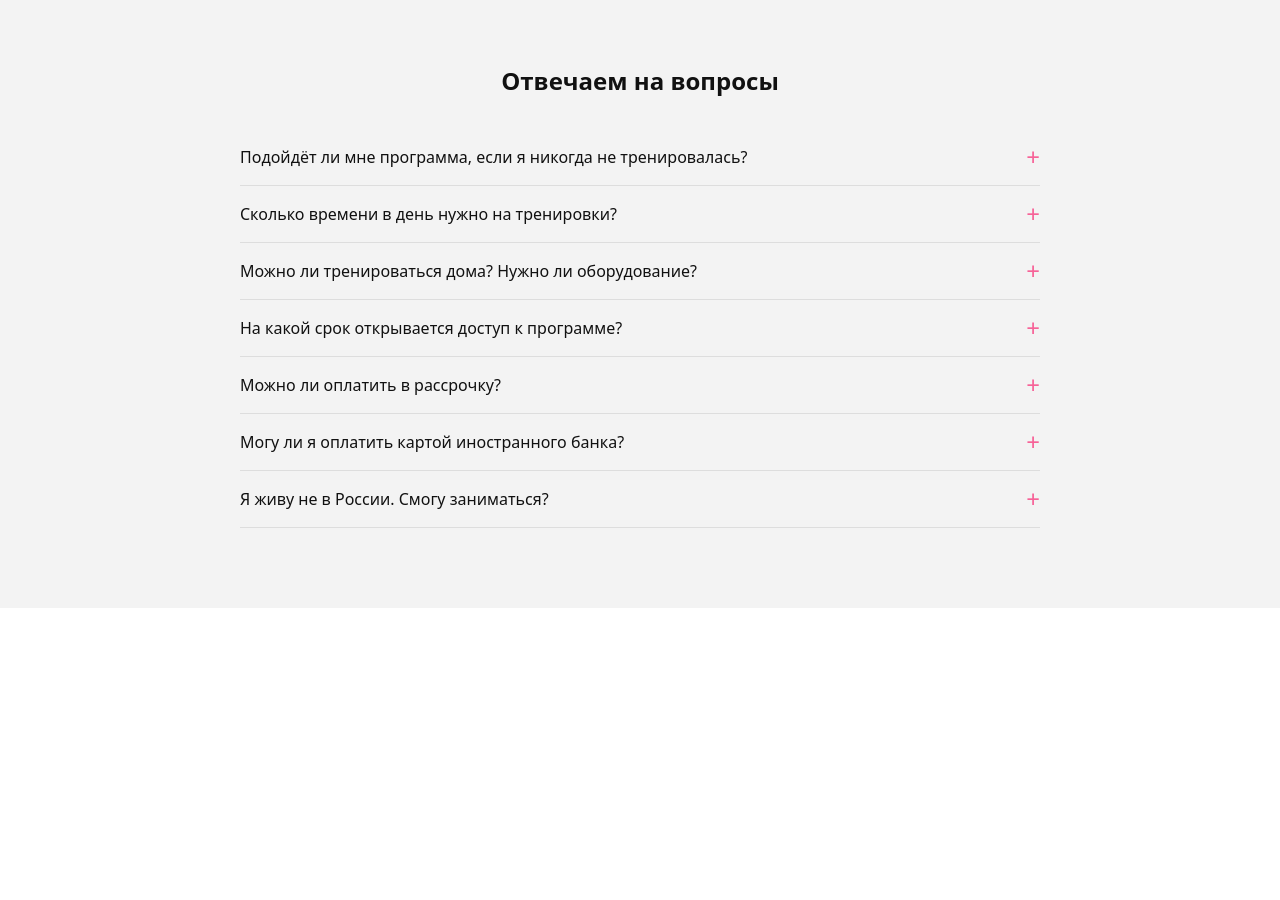
Scenario: Faq › toggles answer visibility
Click the button "Сколько времени в день нужно на тренировки? +": click(429, 214) [240,186,1040,242]
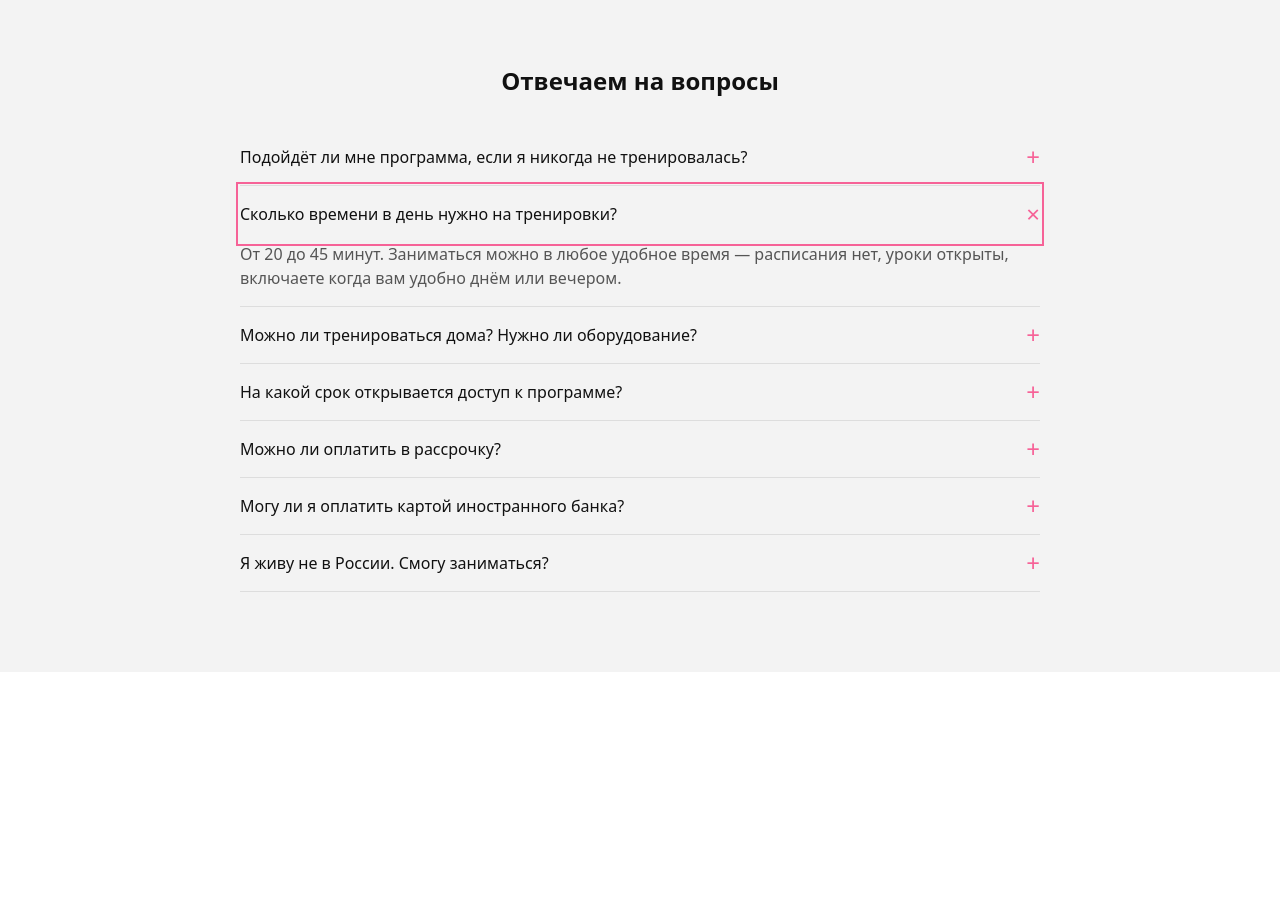
Expected: the button "Сколько времени в день нужно на тренировки? ×" is expanded
Expected: the text "От 20 до 45 минут" is shown, [240,243,1009,289]
Click the button "Сколько времени в день нужно на тренировки? ×": click(429, 214) [240,186,1040,242]
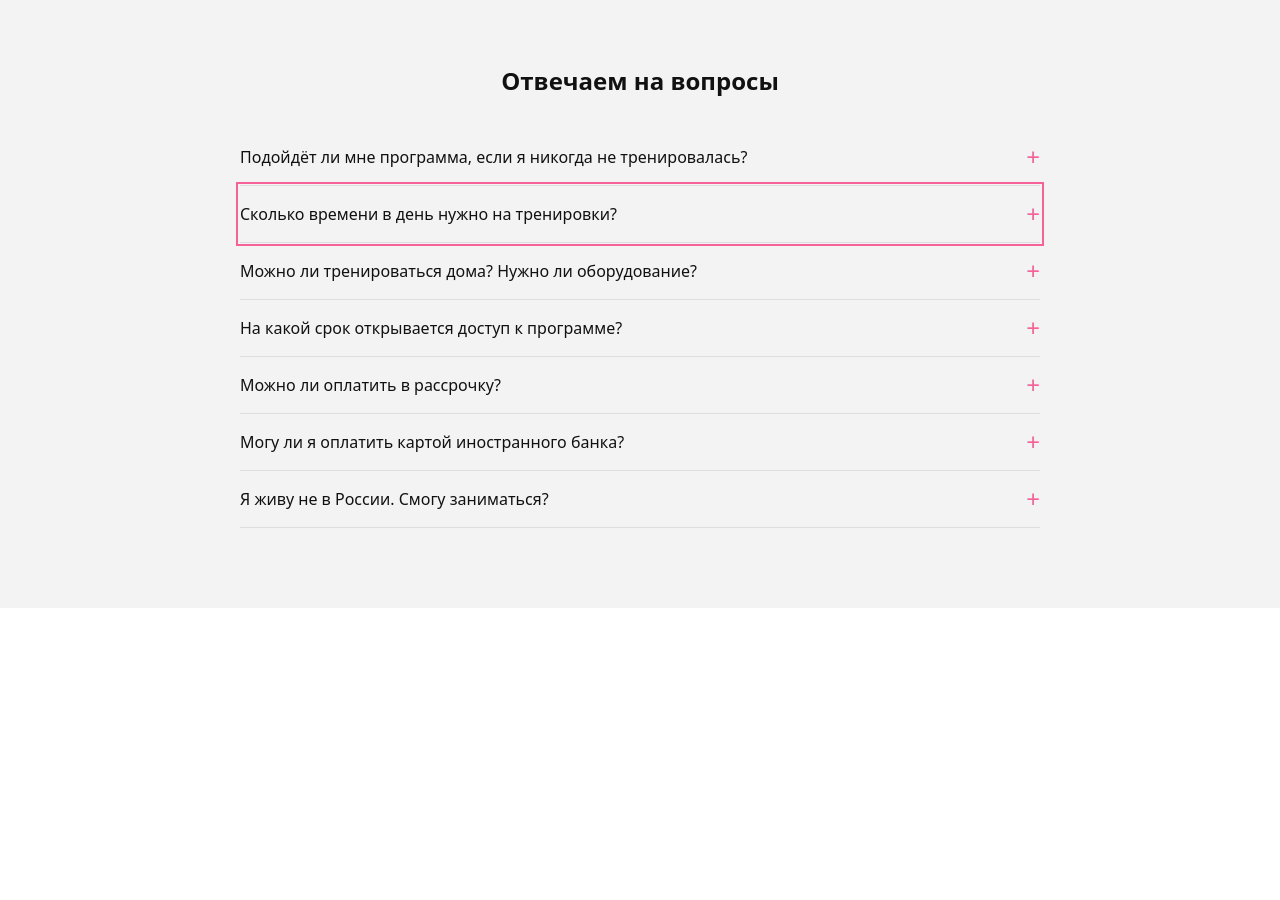
Expected: the button "Сколько времени в день нужно на тренировки? +" is collapsed, [240,186,1040,242]
